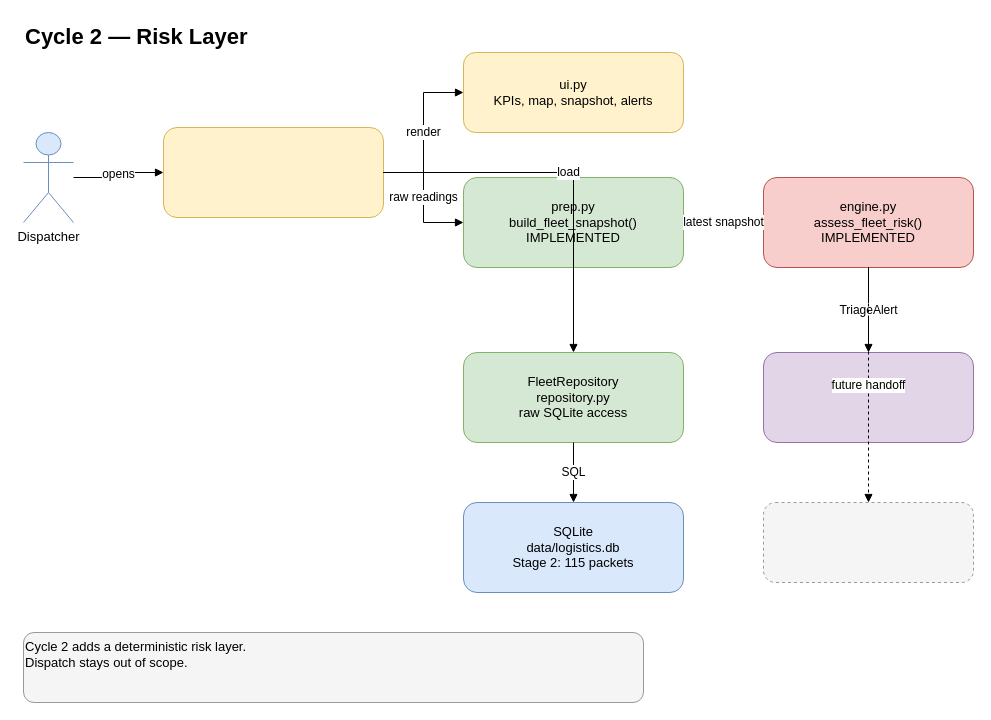
This 991x720 diagram has some shape labels left out. The shapes that lost their labels are listed below. From the top down, each one's box as (x1, y1, x2, y2) in pixels, then its label:
(162, 126, 384, 218): app_cycle2.py prepared snapshot + alerts
(762, 352, 974, 442): models.py contracts + FleetSnapshotRow + TriageAlert
(762, 502, 974, 582): operator.py Cycle 3 — future
